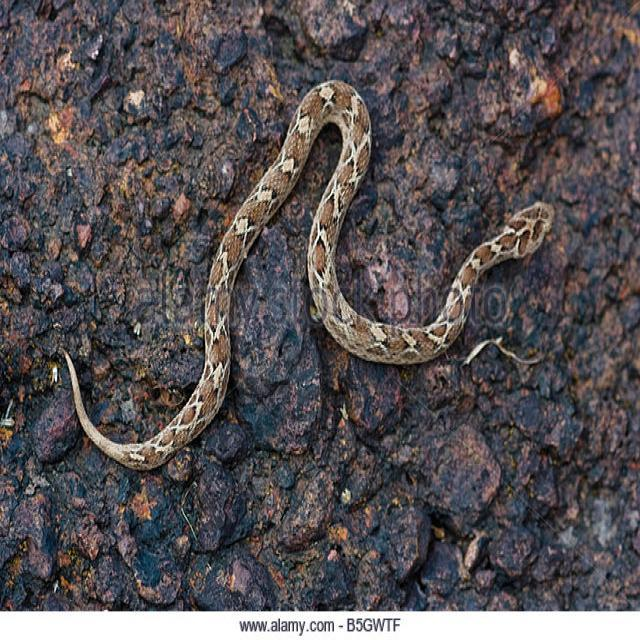Snake: (60, 77, 555, 471)
